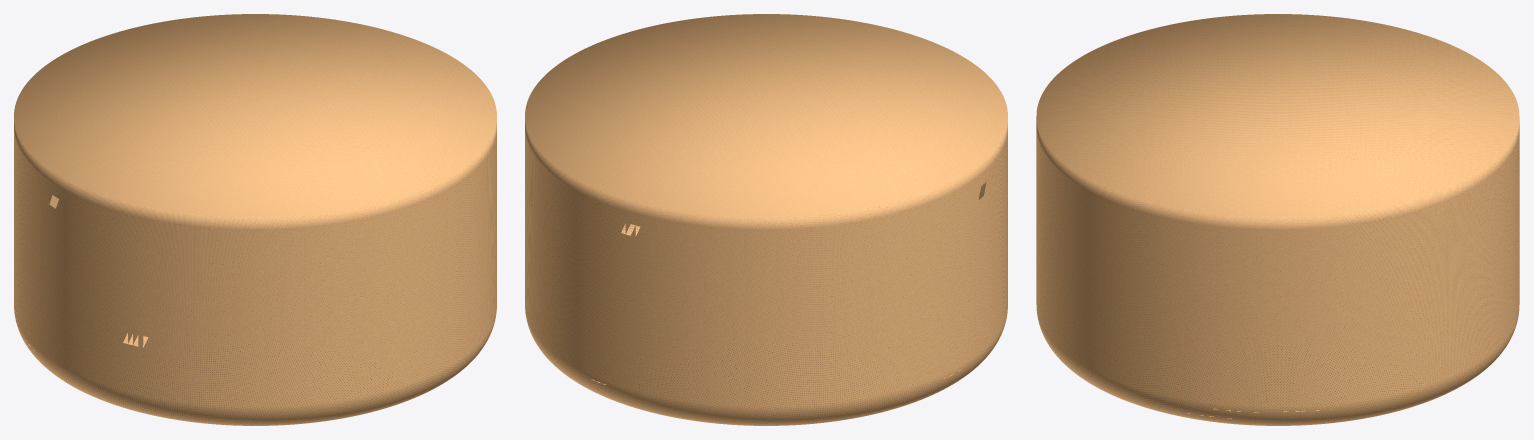
Rendered from scene-v5-additions.glb.
3 views of the same model, side by side, from view 1: azimuth 30°, elevation 25°; view 2: azimuth 150°, elevation 25°; view 3: azimuth 270°, elevation 25° (orthographic).
Visible parts, largest first — view 1: V5_CLEAN / V5_CLEAN / V5_CLEAN / V5_CLEAN / V5_CLEAN / V5_CL; view 2: V5_CLEAN / V5_CLEAN / V5_CLEAN / V5_CLEAN / V5_CLEAN / V5_CL; view 3: V5_CLEAN / V5_CLEAN / V5_CLEAN / V5_CLEAN / V5_CLEAN / V5_CL.
Part boxes in pixels (box(x1,y1,x2,y2)): V5_CLEAN / V5_CLEAN / V5_CLEAN / V5_CLEAN / V5_CLEAN / V5_CL: box(14, 14, 496, 425); V5_CLEAN / V5_CLEAN / V5_CLEAN / V5_CLEAN / V5_CLEAN / V5_CL: box(525, 14, 1007, 425); V5_CLEAN / V5_CLEAN / V5_CLEAN / V5_CLEAN / V5_CLEAN / V5_CL: box(1036, 14, 1519, 425).
Bounding box in the file's own units: 520 × 260 × 520.
Materials: 43 (6 with a texture image).
